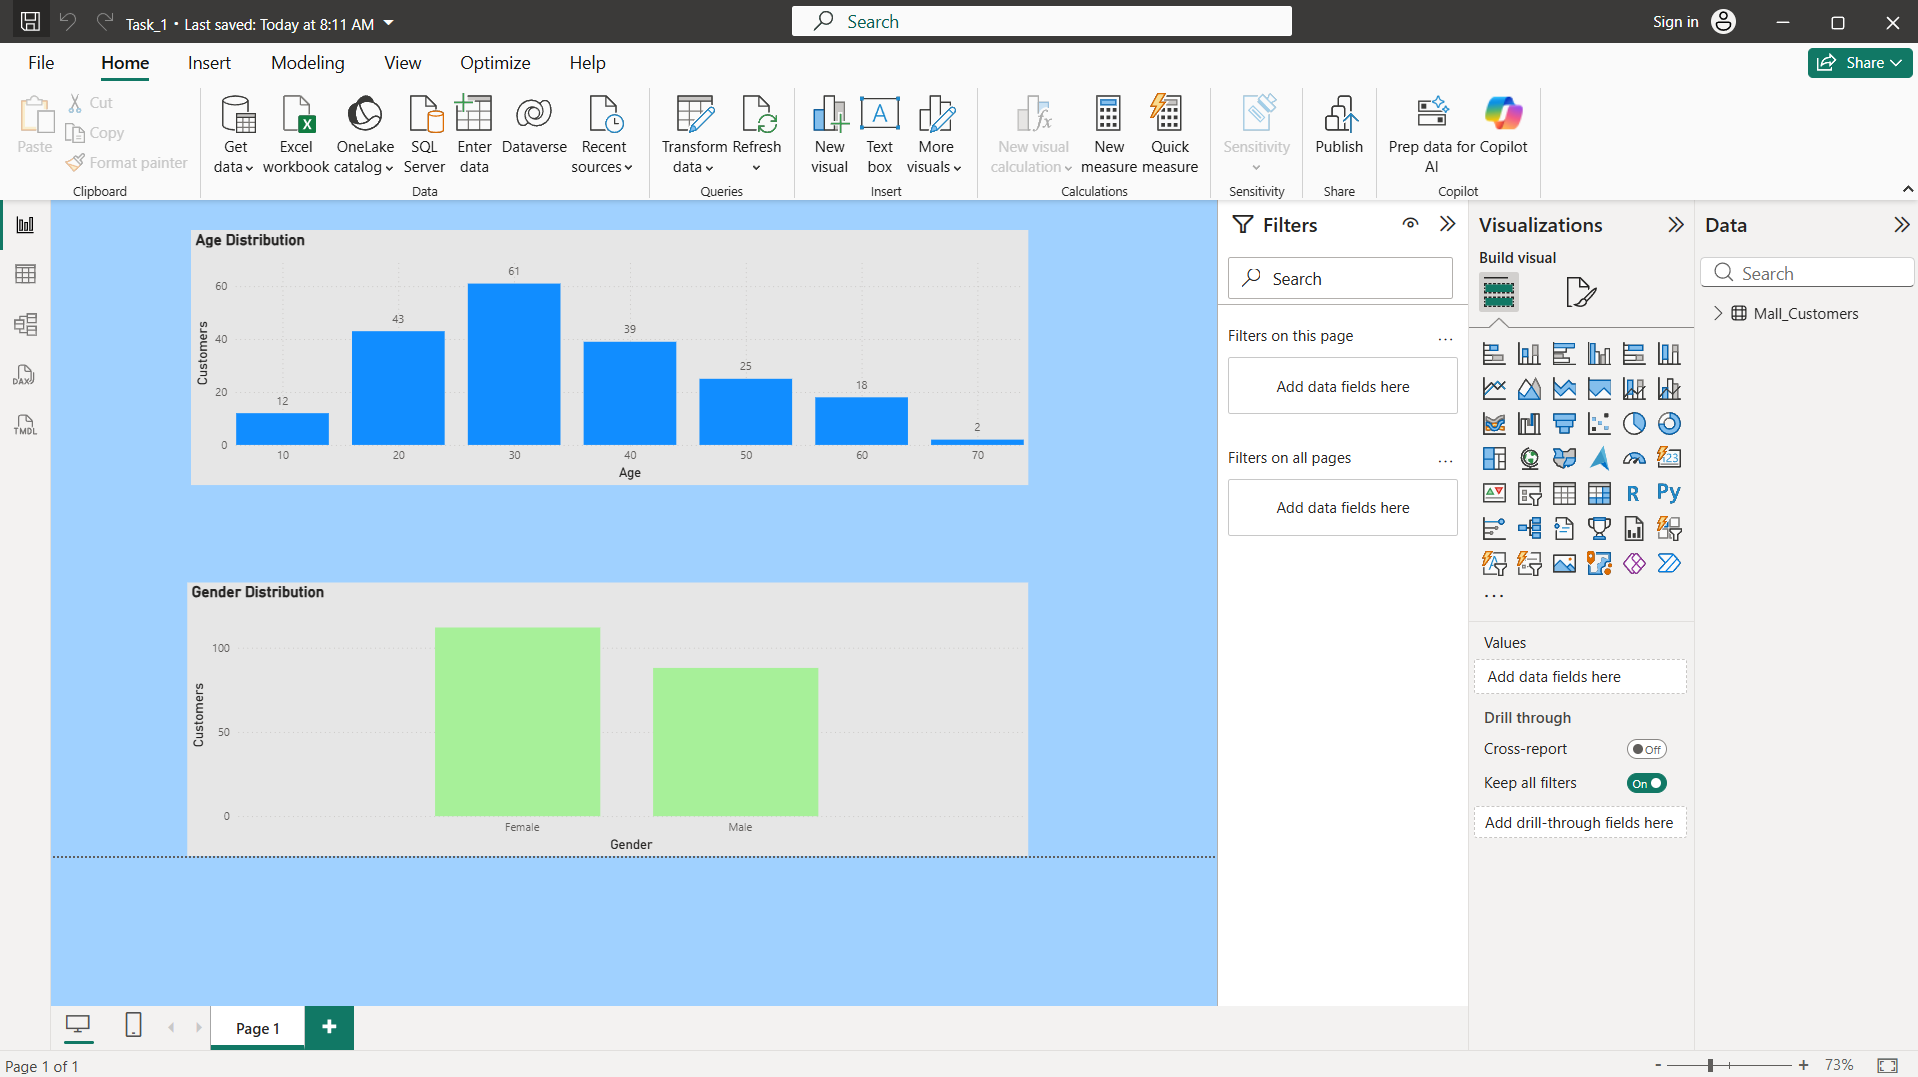

What the dashboard file says about the page in this screenshot:
{"tool":"powerbi","page":{"name":"Page 1","canvas":[1280,720],"ordinal":0},"visuals":[{"type":"clusteredColumnChart","title":"Age Distribution","fields":{"Category":["Mall_Customers.Age (bins)"],"Y":["CountNonNull(Mall_Customers.CustomerID)"]},"box":[153.7,32.9,919.4,279.9],"z":0},{"type":"columnChart","title":"Gender Distribution","fields":{"Category":["Mall_Customers.Genre"],"Y":["CountNonNull(Mall_Customers.CustomerID)"]},"box":[149.6,419.9,923.5,300.5],"z":1}]}

Visuals, with their boxes on the page's 1280x720 design canvas (x1, y1, x2, y2). These are canvas units, not pixel positions in the 1918x1077 screenshot, which may show the page scaled, cropped or inside an application window:
"Age Distribution" clusteredColumnChart: [154,33,1073,313]
"Gender Distribution" columnChart: [150,420,1073,720]
